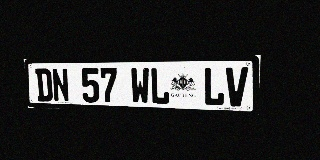5: (81, 68, 100, 103)
7: (99, 68, 118, 103)
D: (35, 68, 53, 102)
L: (203, 67, 225, 106), (150, 67, 170, 105)
N: (51, 68, 70, 102)
V: (225, 67, 248, 107)
W: (130, 68, 150, 104)
